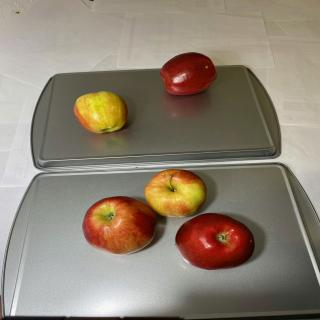Apple: (175, 213, 255, 270), (82, 196, 157, 255), (144, 169, 206, 217), (160, 52, 217, 95), (73, 91, 128, 134)
